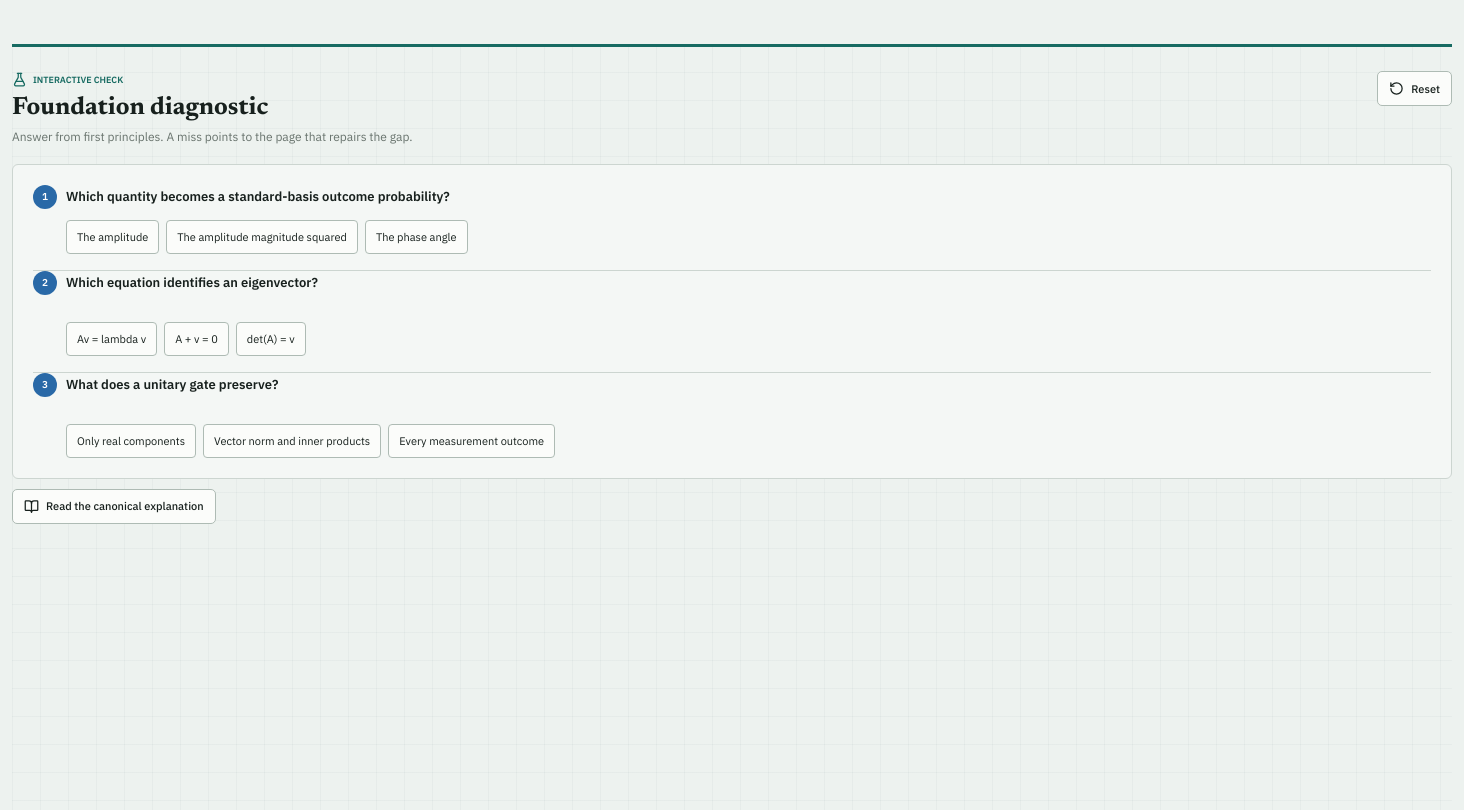
Test: interactive foundation exercises › gives correct and incorrect diagnostic feedback and routes a miss
Click the button "The amplitude".
click(113, 236)  # box [66, 220, 159, 254]
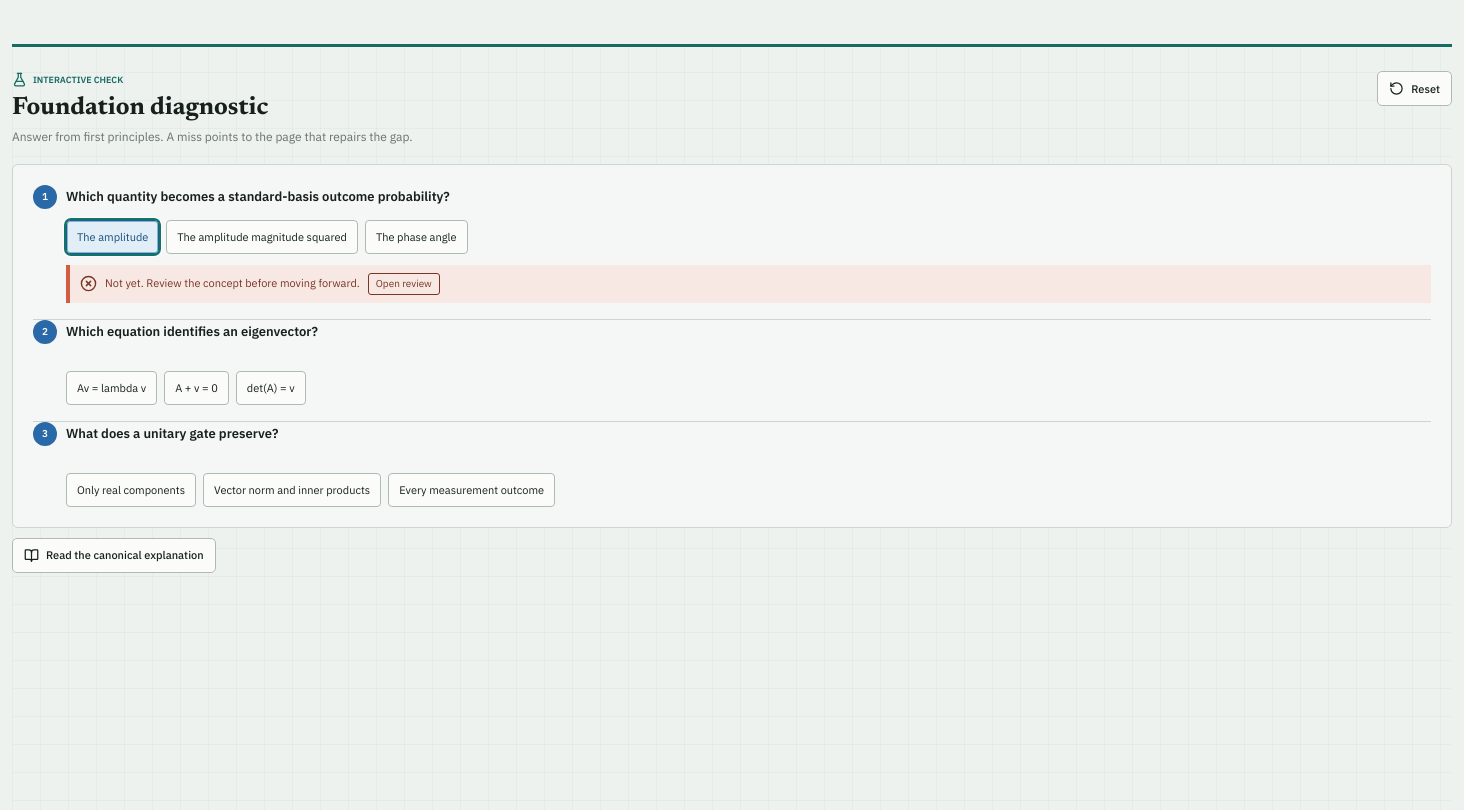
Now the text "Not yet" is shown, box [105, 276, 360, 290]
Click the button "Open review".
click(404, 284)  # box [368, 272, 440, 294]
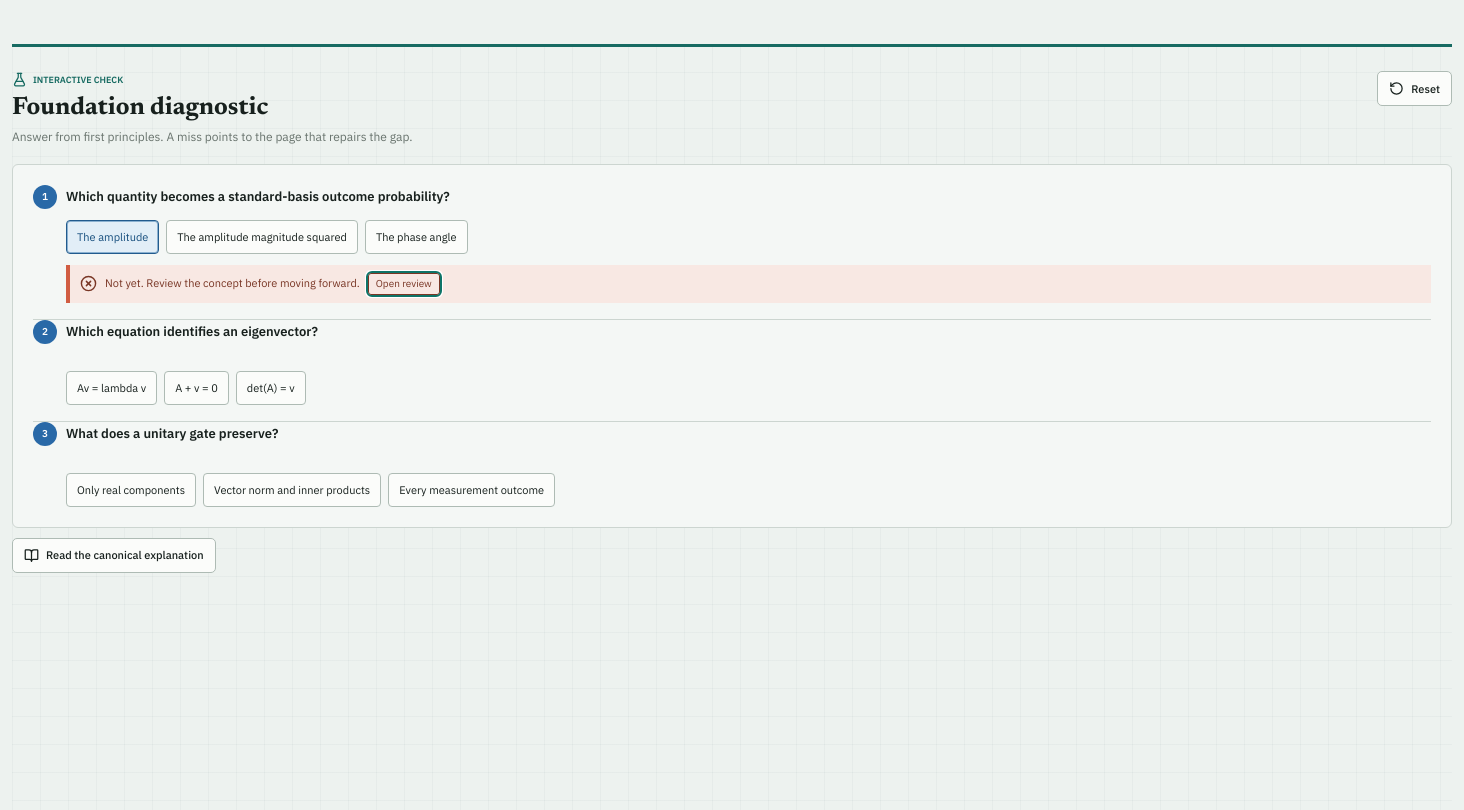
Click the button "The amplitude magnitude squared".
click(262, 236)  # box [166, 220, 358, 254]
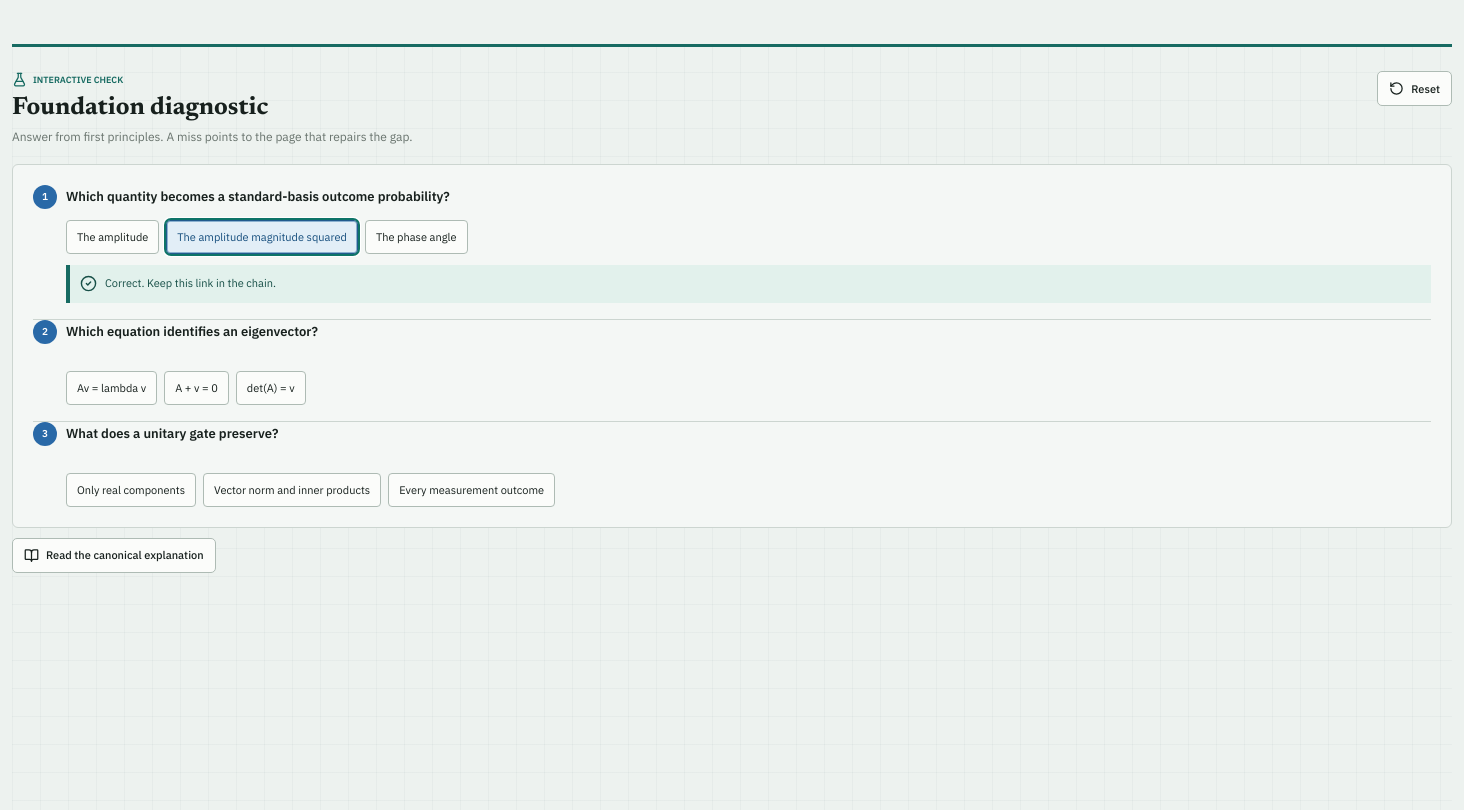
Now the text "Correct. Keep this link in the chain." is shown, box [105, 276, 276, 291]
